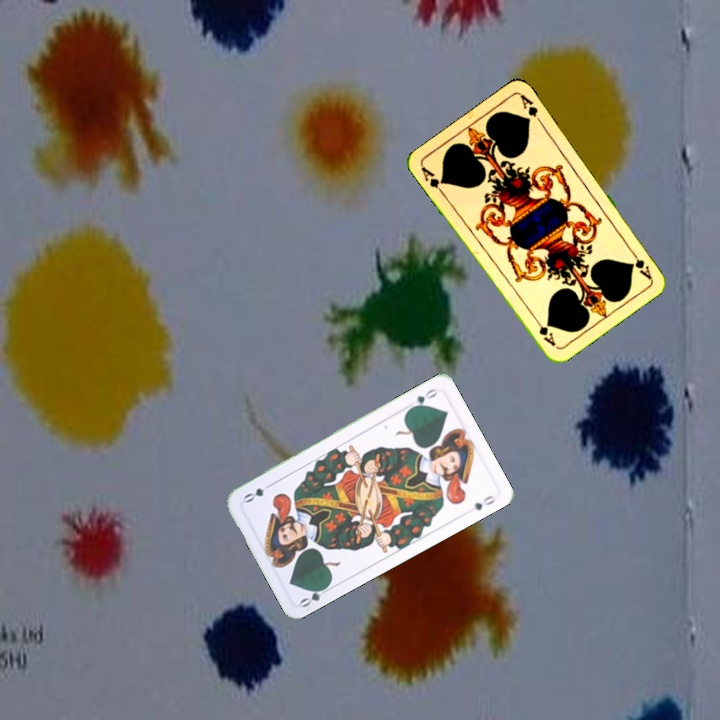GA: (417, 162, 447, 198), (626, 245, 654, 282)
GO: (296, 581, 334, 610), (405, 384, 441, 413)
